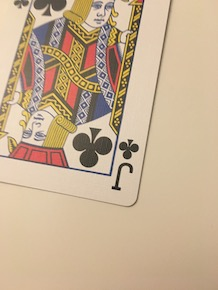JackOfClubs: (1, 1, 178, 208)
